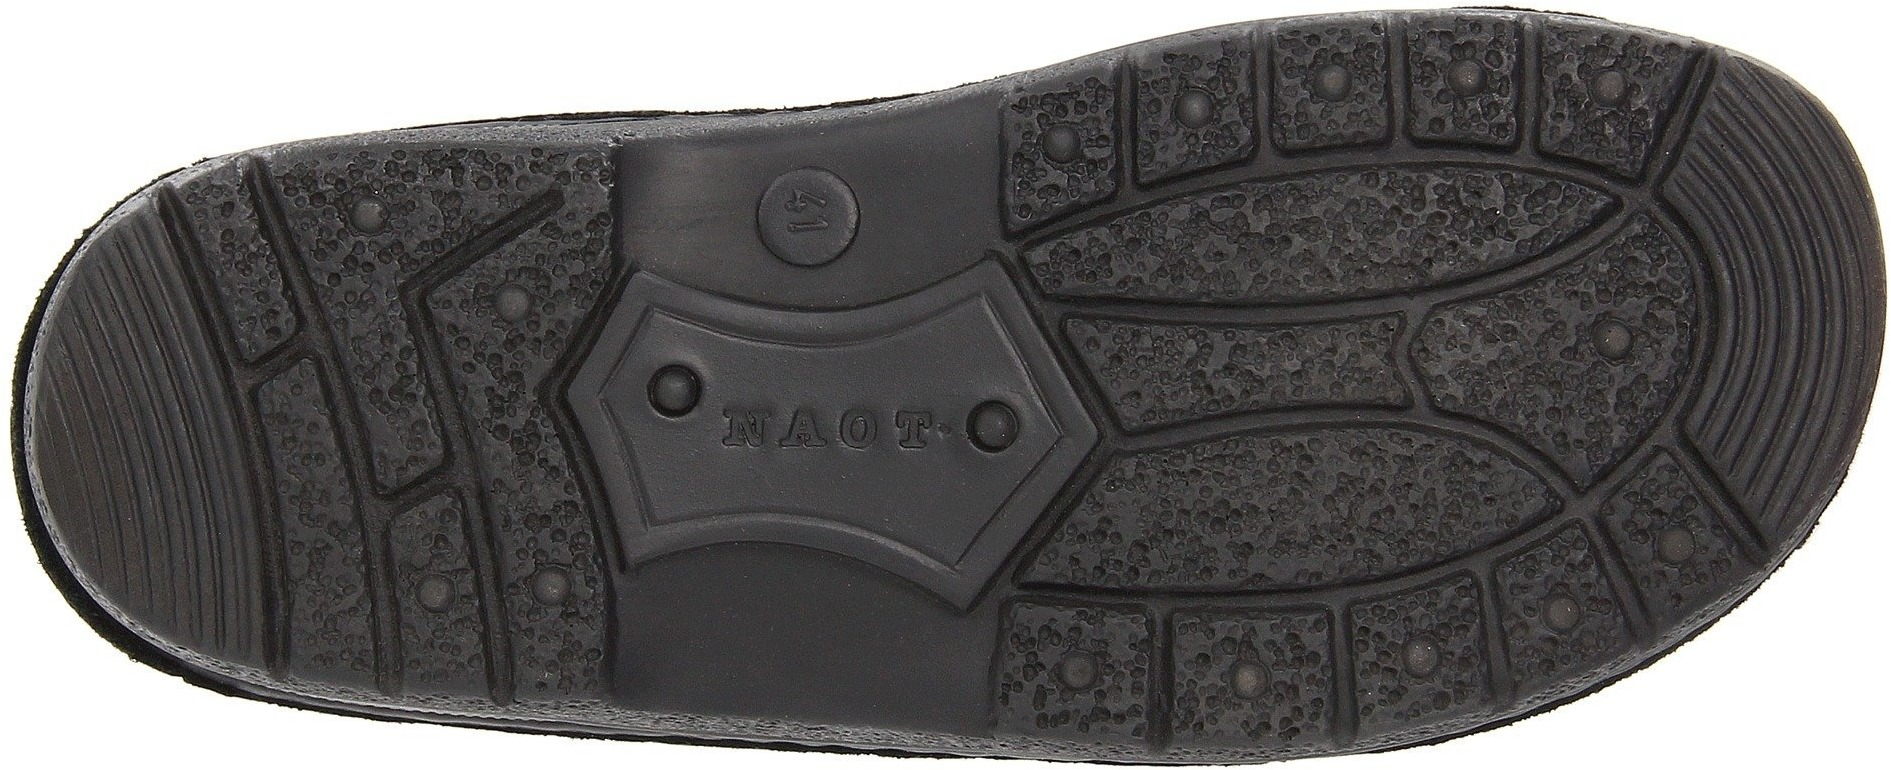circle: (1434, 45, 1504, 113), (1028, 107, 1094, 176), (1042, 640, 1110, 705), (1530, 585, 1592, 647)
other: (37, 329, 235, 535), (1715, 168, 1874, 352), (699, 539, 847, 708)
text: (845, 368, 972, 492), (716, 374, 835, 488), (771, 177, 845, 258)
